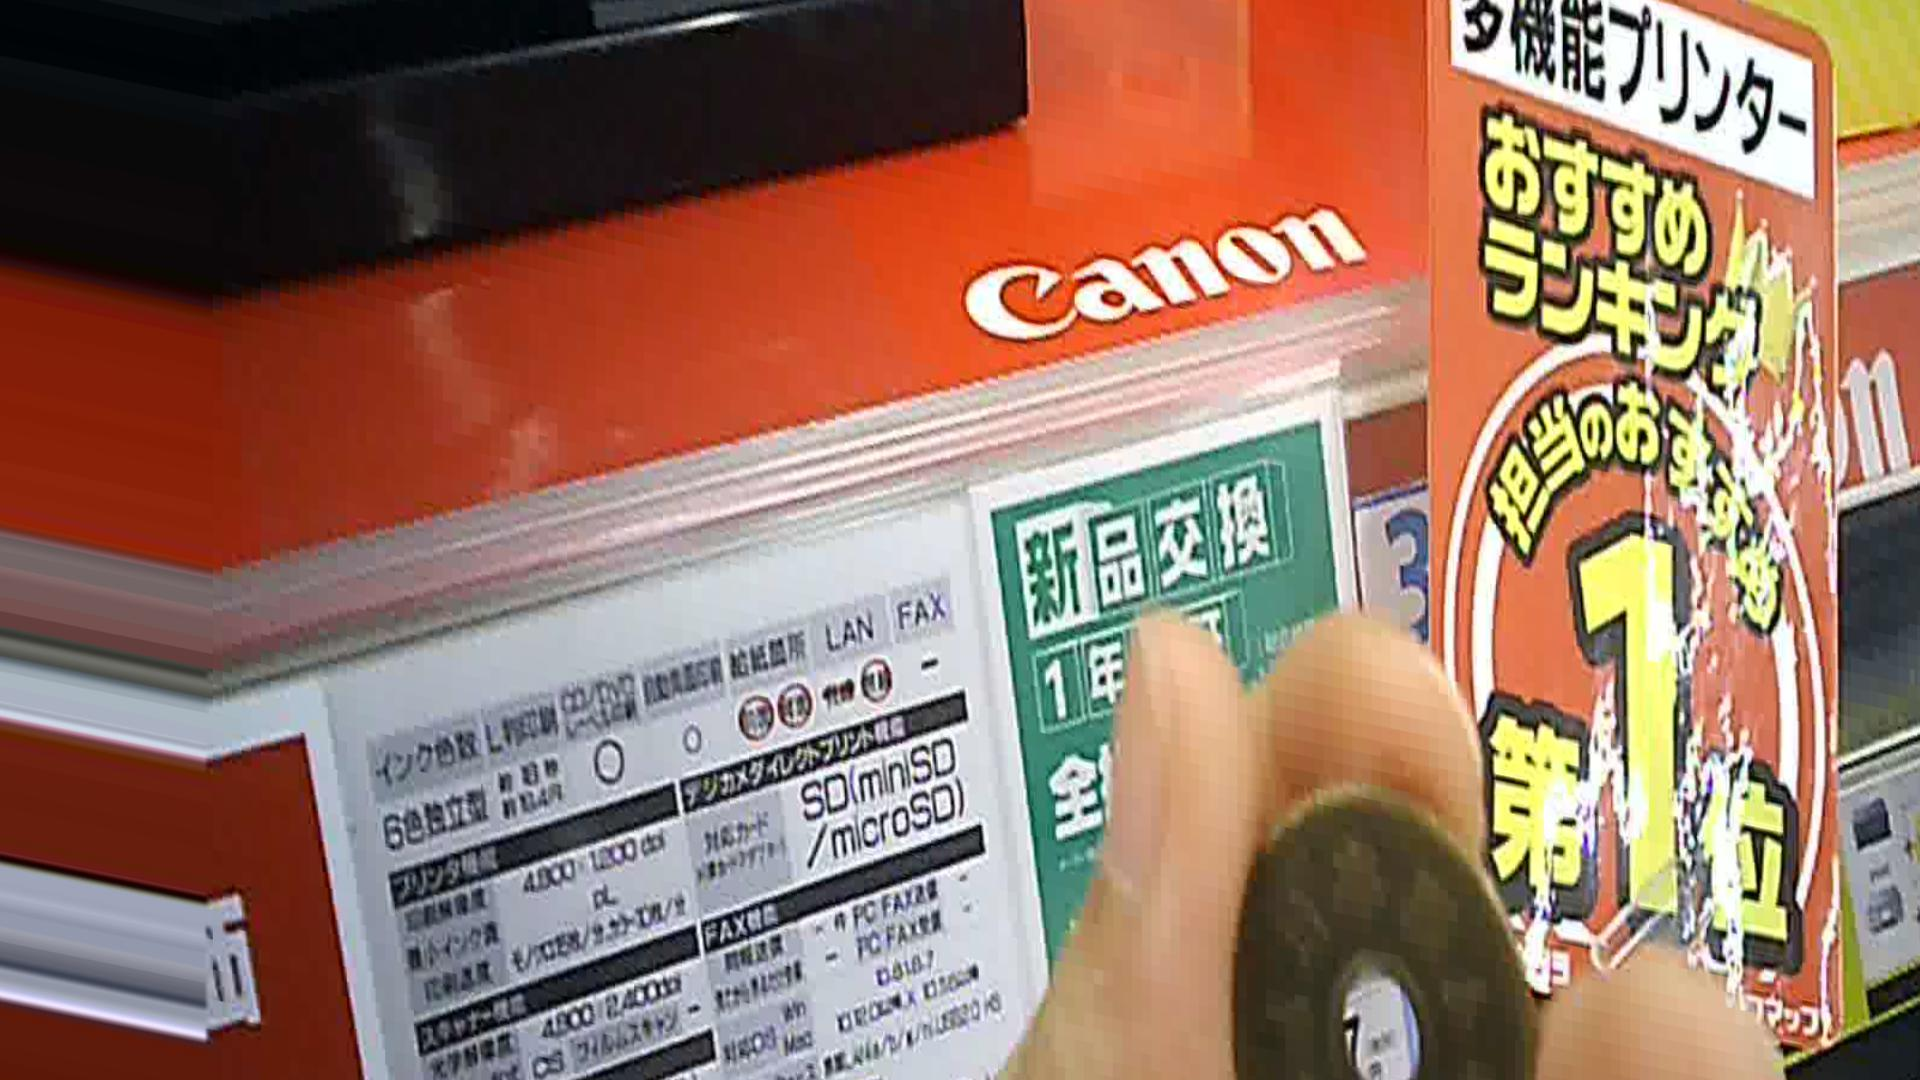5 Yen: (1222, 804, 1530, 1079)
